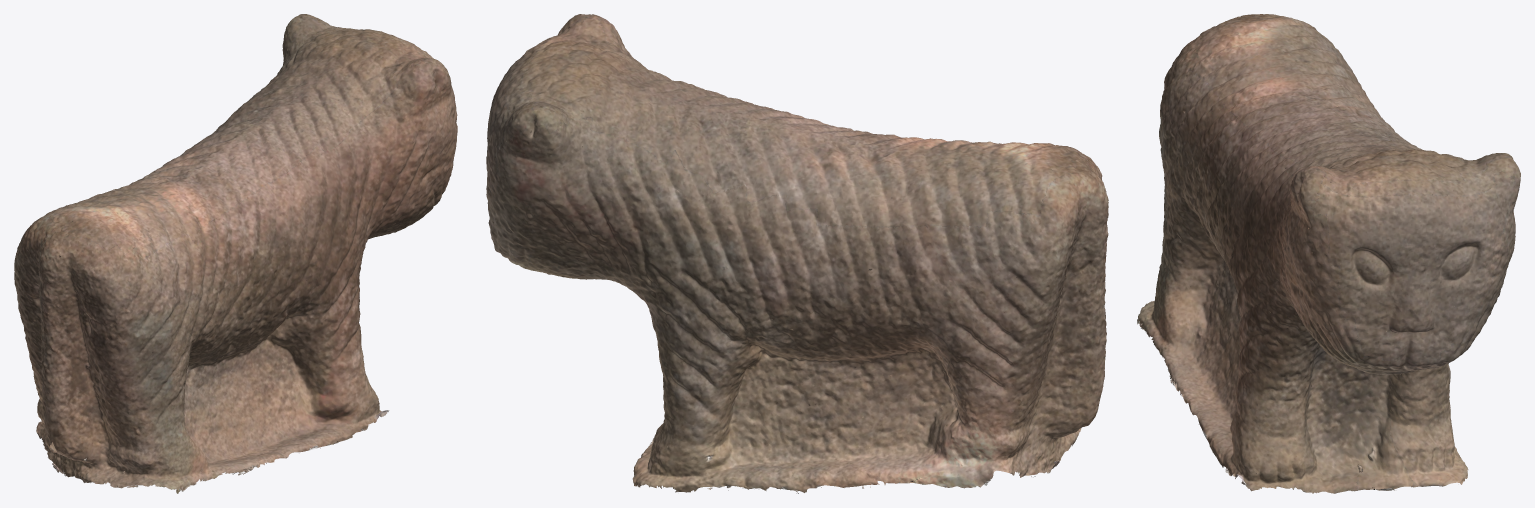
The model's file is stone-lion.glb.
The picture shows the model from 3 angles, left to right: view 1: azimuth 30°, elevation 25°; view 2: azimuth 150°, elevation 25°; view 3: azimuth 270°, elevation 25°; orthographic projection. The views are drawn at different scales.
Parts seen in each view (by area): view 1: male.004; view 2: male.004; view 3: male.004.
Part boxes in pixels (left/top/right/bottom): male.004: left=14, top=14, right=457, bottom=493; male.004: left=486, top=14, right=1108, bottom=493; male.004: left=1137, top=14, right=1520, bottom=493.
Bounding box in the file's own units: 1.44 × 1 × 0.9338.
1 material, 1 textured.
